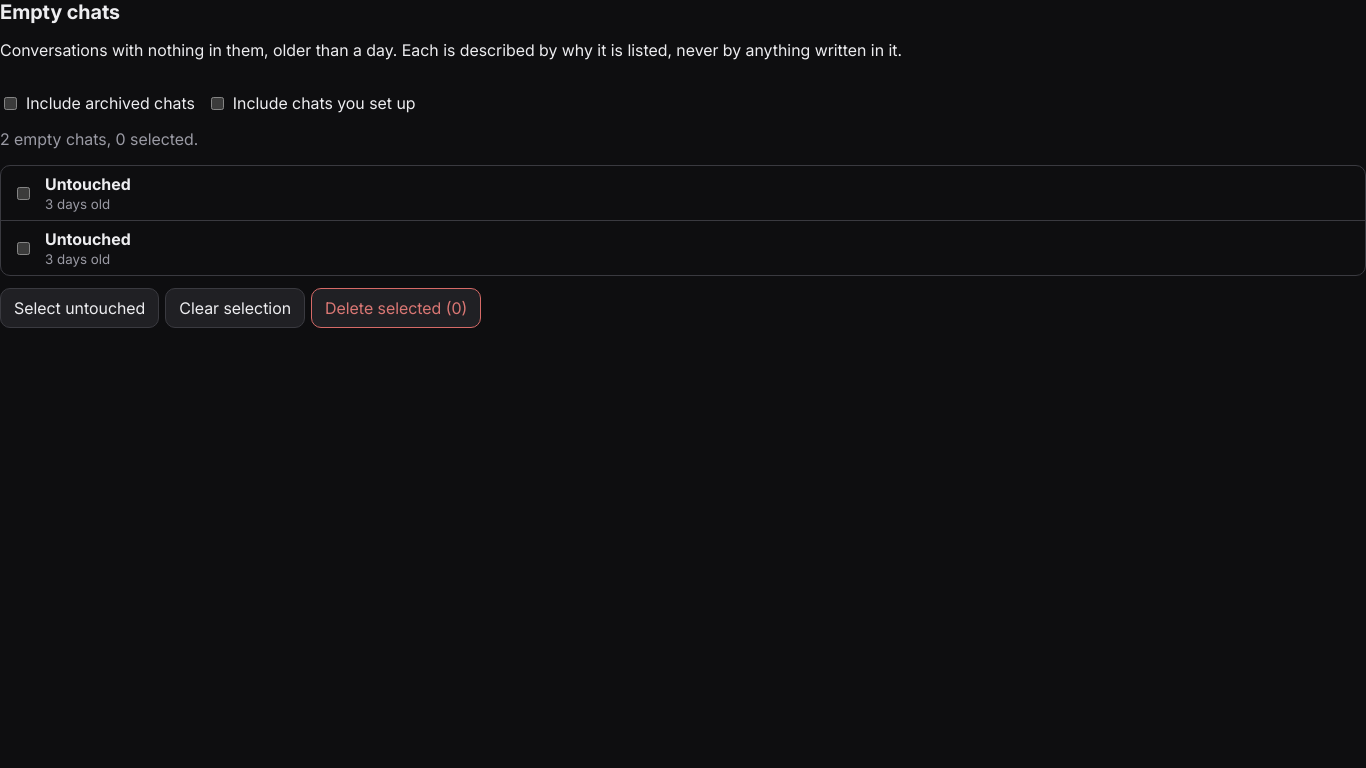
it: EmptyChatMaintenance › confirms the server's counts and deletes only the chats the check bound
Step 1. Click the 1st checkbox named "old" → (24, 193), box [17,186,30,200]
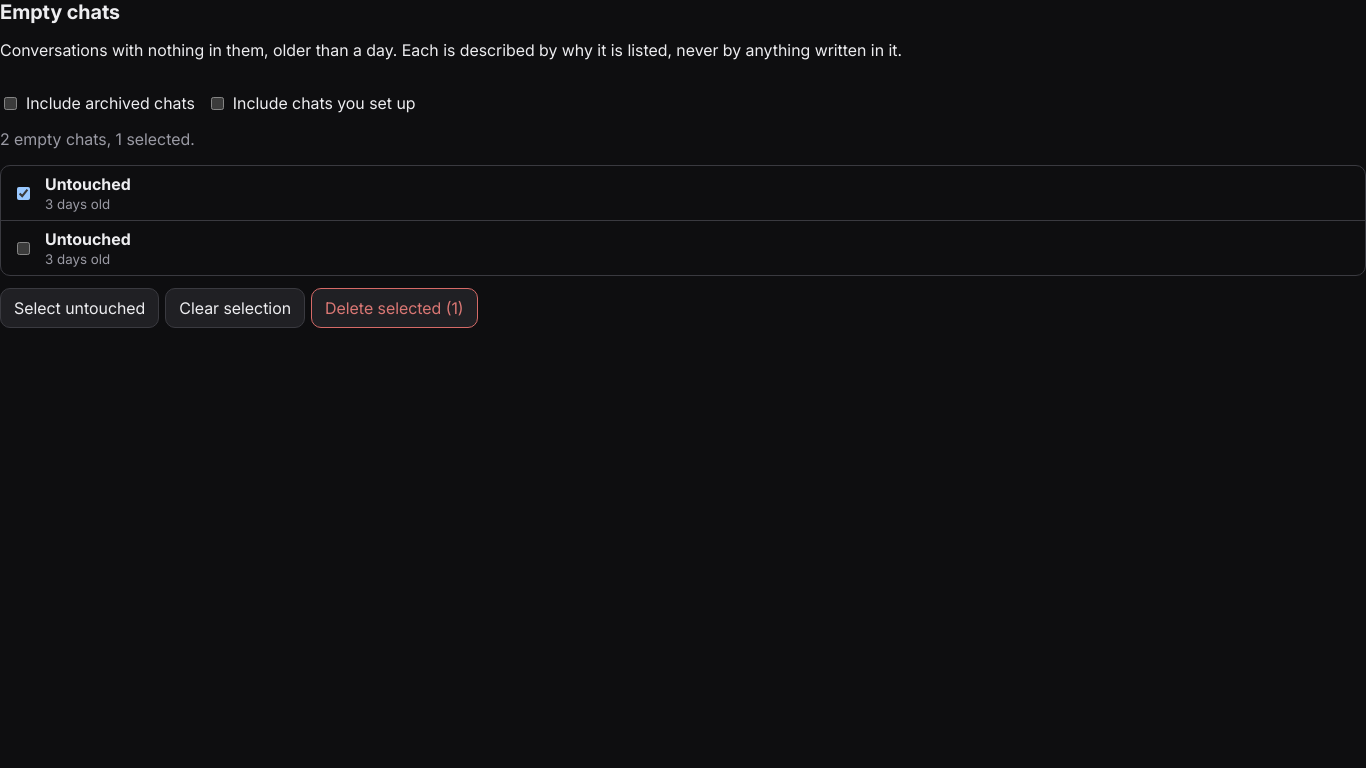
Step 2. Click the 2nd checkbox named "old" → (24, 248), box [17,242,30,254]
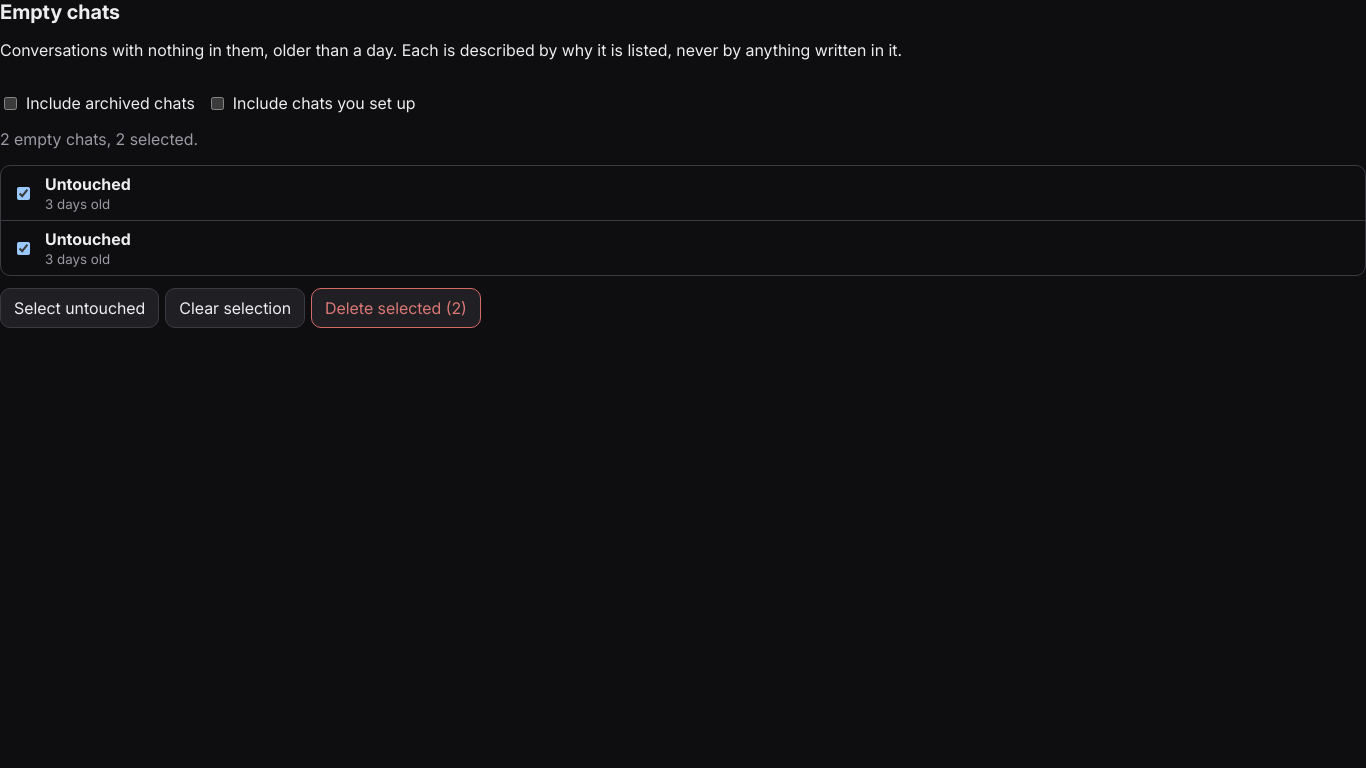
Step 3. Click the button "Delete selected (2)" → (396, 308), box [311,288,481,328]
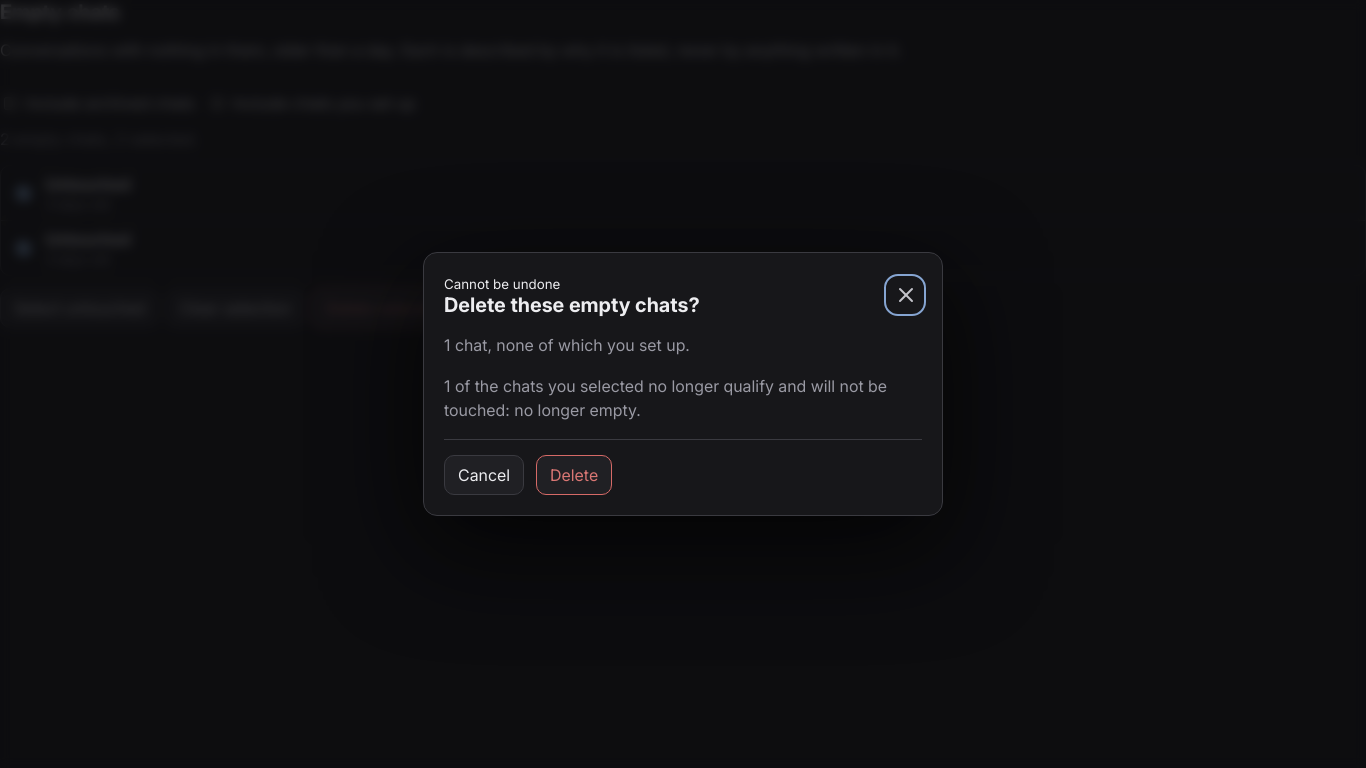
Expected: the text "1 chat, none of which you set up." is shown, [444,335,690,355]
Expected: the text "no longer empty" is shown, [514,400,636,420]
Step 4. Click the button "Delete" → (574, 475), box [536,455,612,495]
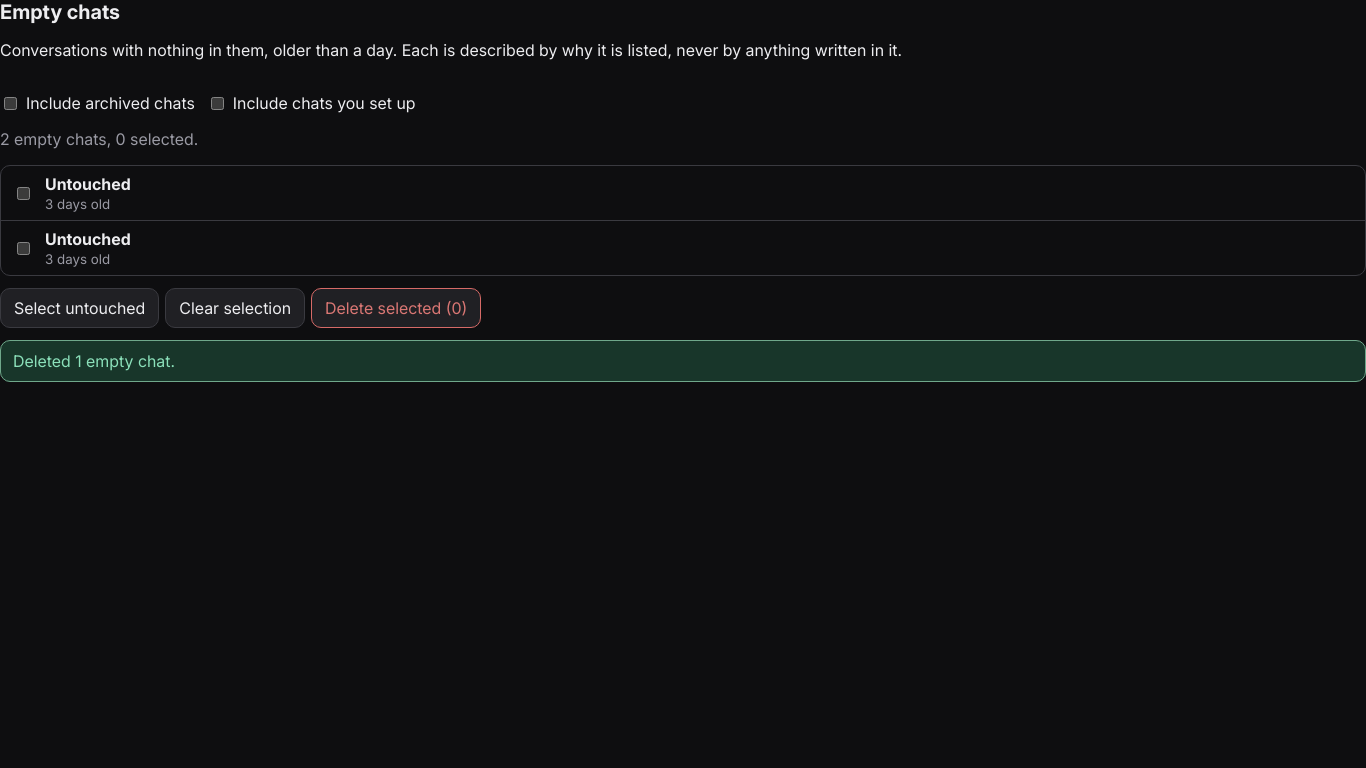
Expected: the text "Deleted 1 empty chat." is shown, [0,340,1365,382]
